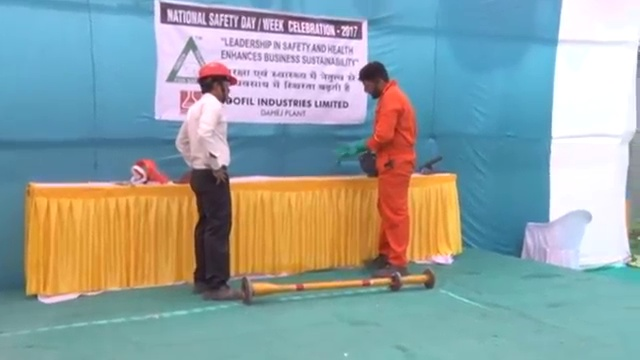helmet: (197, 61, 238, 86)
helmet_off: (360, 59, 391, 100)
helmet_on: (196, 60, 239, 104)
person: (174, 60, 244, 302), (360, 58, 416, 278)
